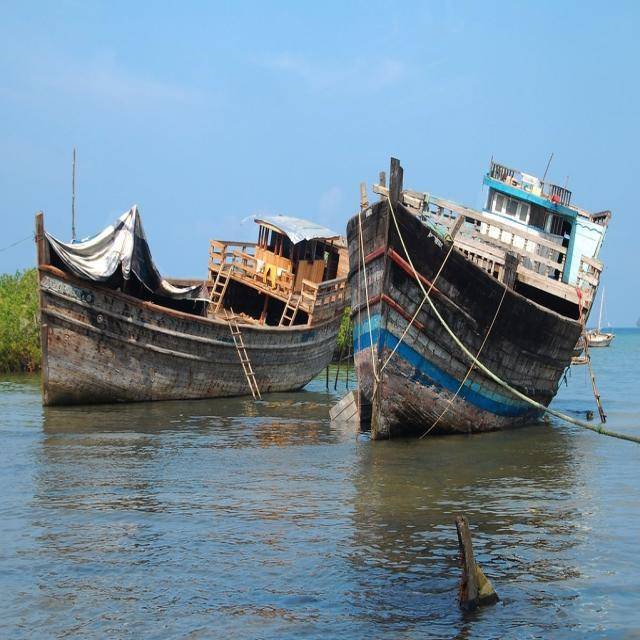boat: (346, 189, 600, 449), (22, 215, 350, 416)
